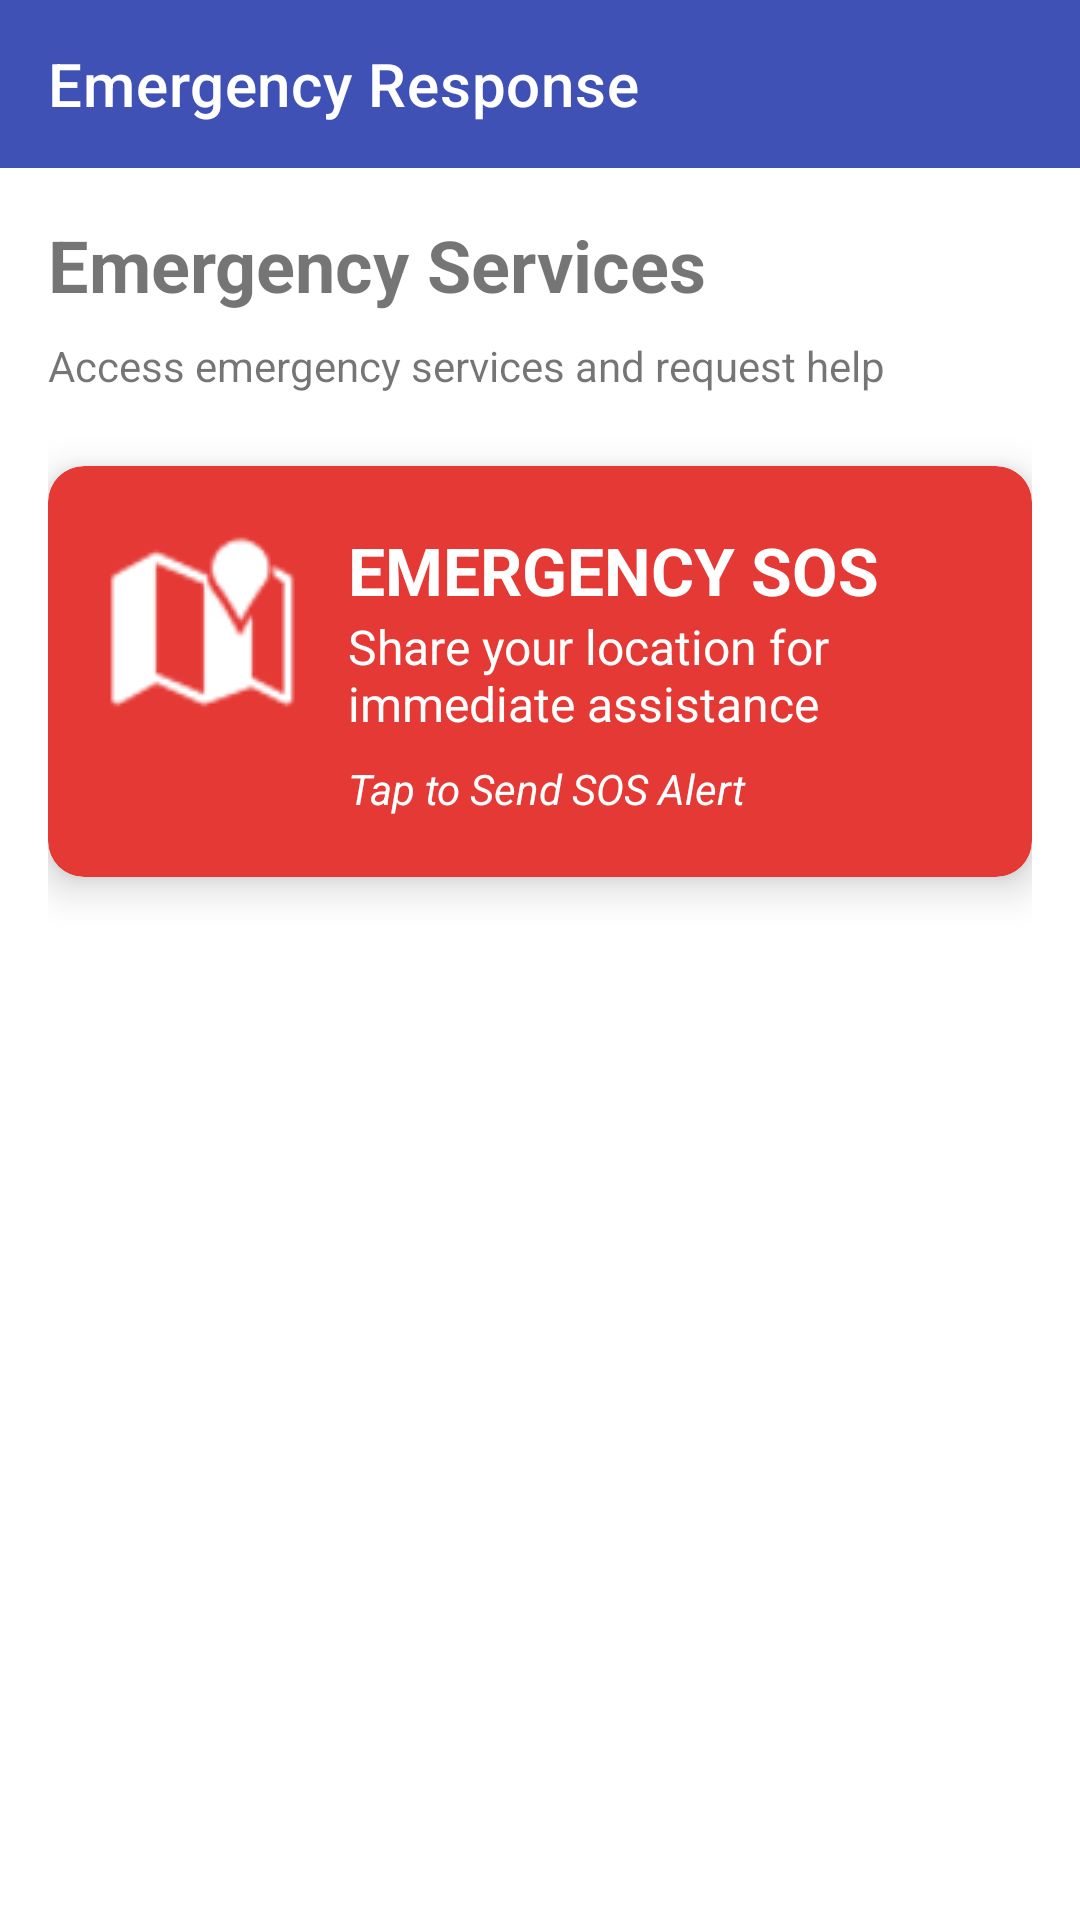

Locate icon controls on the screen. Image size 1080 × 1920, boxes as (x1, y1, x2, y2).
map: (110, 537, 294, 707)
